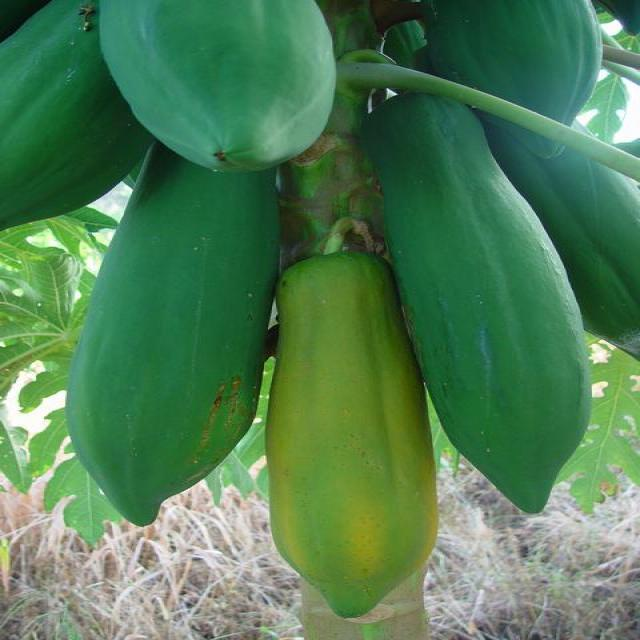Pepaya rippen: (267, 251, 440, 618)
Pepaya unrippen: (374, 90, 607, 514), (69, 160, 270, 531), (91, 3, 346, 164)
